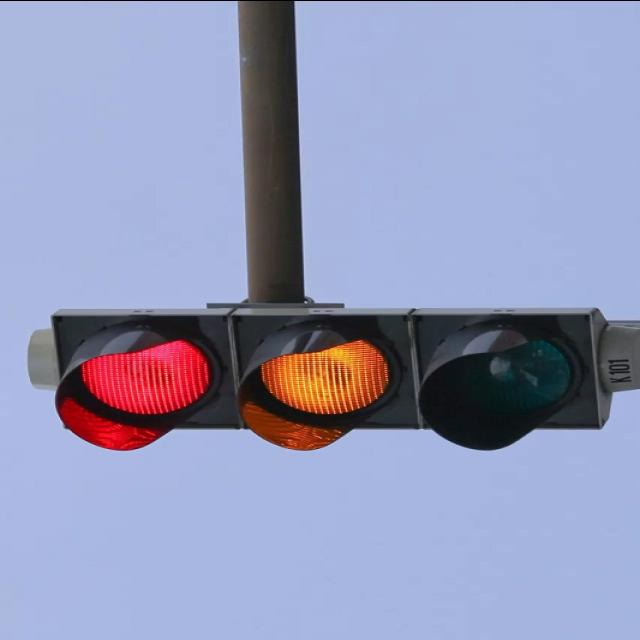red-lights: (74, 335, 212, 415)
yellow-lights: (258, 334, 390, 416)
